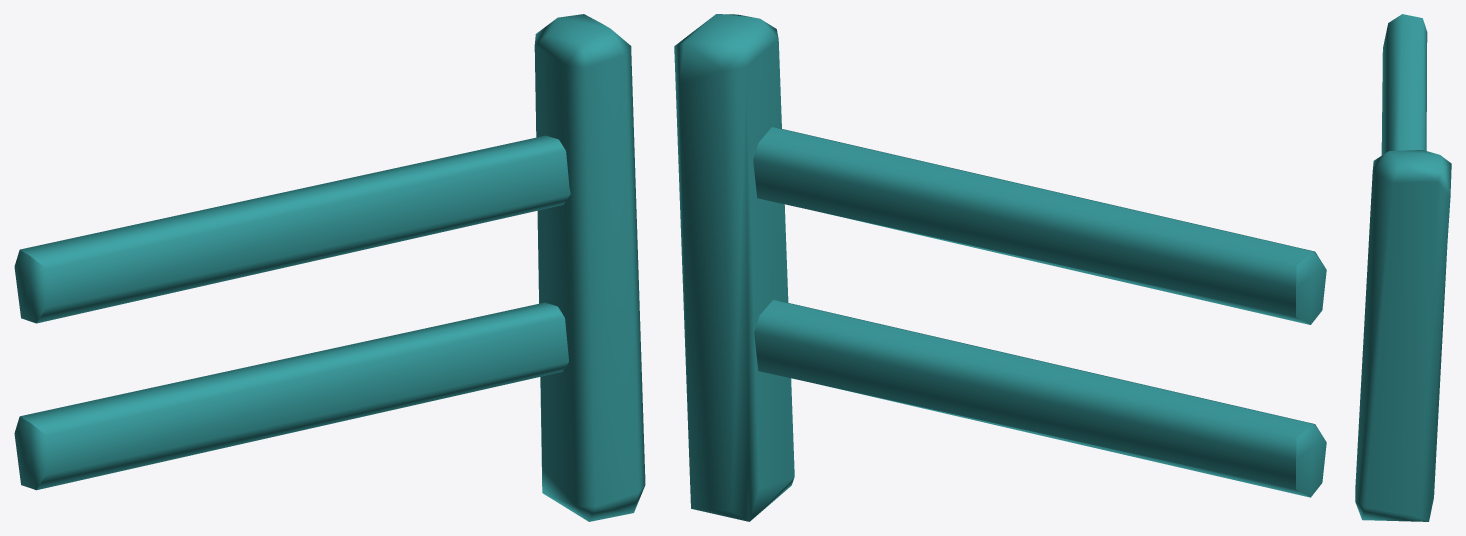
File: SM_Construction_Kit_Fence_01.fbx
3 renders of one model, left to right at view 1: azimuth 30°, elevation 25°; view 2: azimuth 150°, elevation 25°; view 3: azimuth 270°, elevation 25°, orthographic. The views are drawn at different scales.
Parts seen in each view (by area): view 1: polySurface2274; view 2: polySurface2274; view 3: polySurface2274.
Boxes of the visible parts, bbox=[...] form: polySurface2274: bbox=[14, 14, 645, 521]; polySurface2274: bbox=[674, 14, 1326, 521]; polySurface2274: bbox=[1355, 14, 1451, 521].
Size of the model in its own units: 214 by 159 by 38.81.
